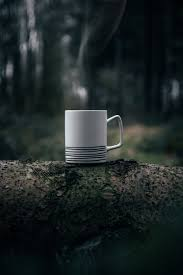cup: (57, 100, 134, 170)
